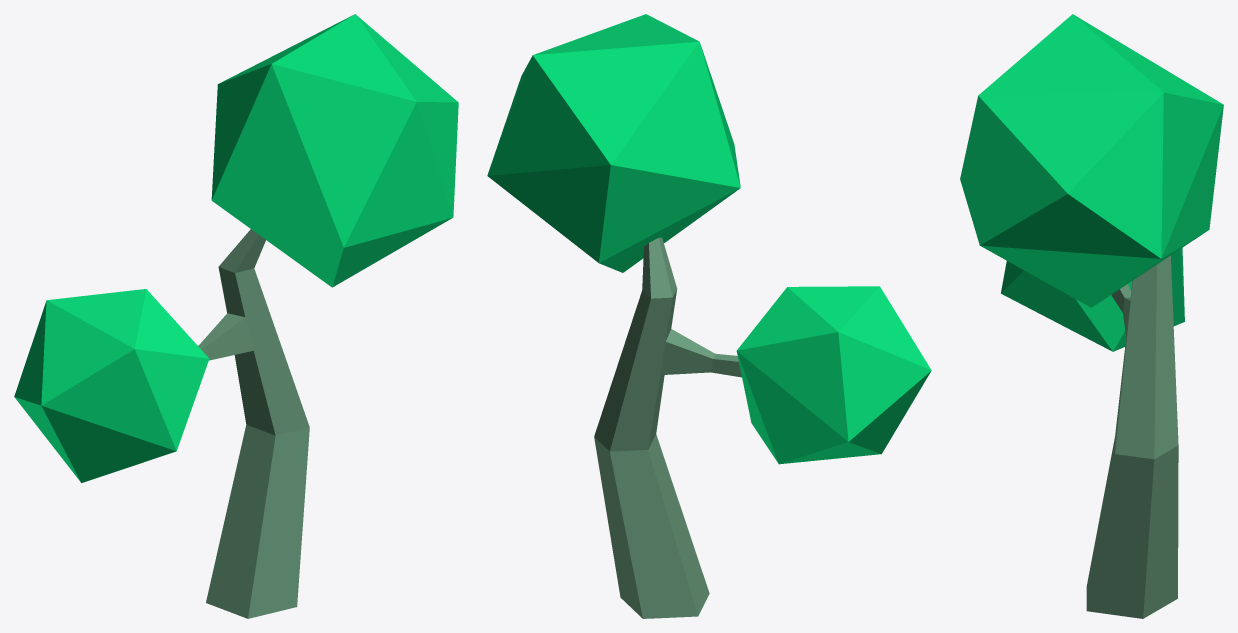
File: tree 2 improved 1.FBX
3 renders of one model, left to right at view 1: azimuth 30°, elevation 25°; view 2: azimuth 150°, elevation 25°; view 3: azimuth 270°, elevation 25°, orthographic. The views are drawn at different scales.
Visible parts, largest first — view 1: tree 2; view 2: tree 2; view 3: tree 2.
Part boxes in pixels (x1=…): tree 2: x1=14, y1=14, x2=458, y2=618; tree 2: x1=487, y1=14, x2=931, y2=618; tree 2: x1=960, y1=14, x2=1223, y2=618.
Bounding box in the file's own units: 21.45 × 27.21 × 11.2.
